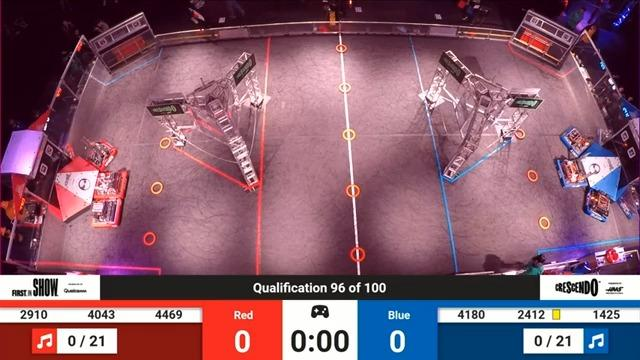robot: (84, 193, 132, 236), (552, 156, 593, 193), (83, 132, 119, 172), (89, 166, 133, 198), (556, 124, 597, 158), (577, 187, 614, 220)
